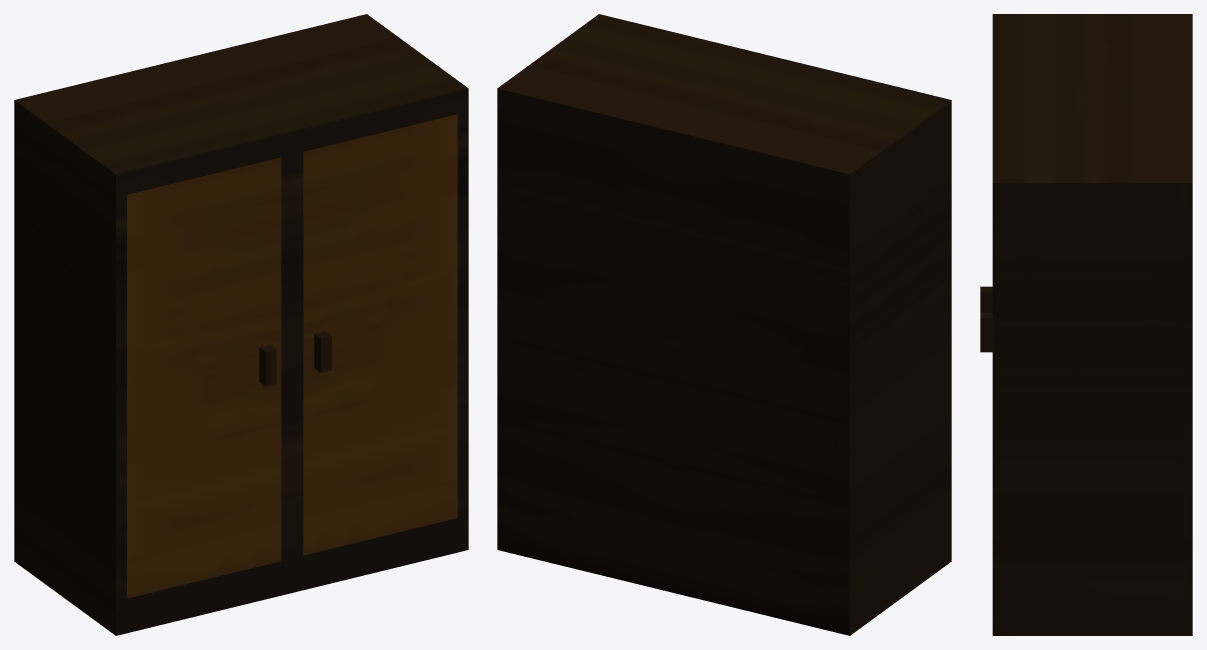
File: M_INT_Closet.fbx
3 renders of one model, left to right at view 1: azimuth 30°, elevation 25°; view 2: azimuth 150°, elevation 25°; view 3: azimuth 270°, elevation 25°, orthographic.
Visible parts, largest first — view 1: Body, DoorRight, DoorLeft; view 2: Body; view 3: Body, DoorRight, DoorLeft.
Boxes of the visible parts, x1,y1,x2,y2 form: Body: (14,14,468,635); DoorRight: (303,114,457,555); DoorLeft: (127,157,281,598); Body: (497,14,951,635); Body: (992,14,1192,635); DoorRight: (980,313,992,352); DoorLeft: (980,286,992,312).
Size of the model in its own units: 200 by 250 by 106.
1 material, 1 textured.
